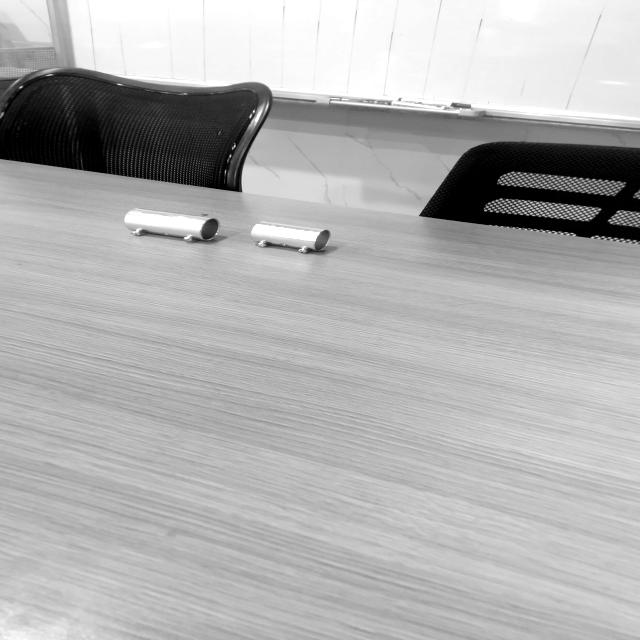Co_Lon: (123, 207, 220, 245)
Co_Nho: (249, 220, 330, 257)
